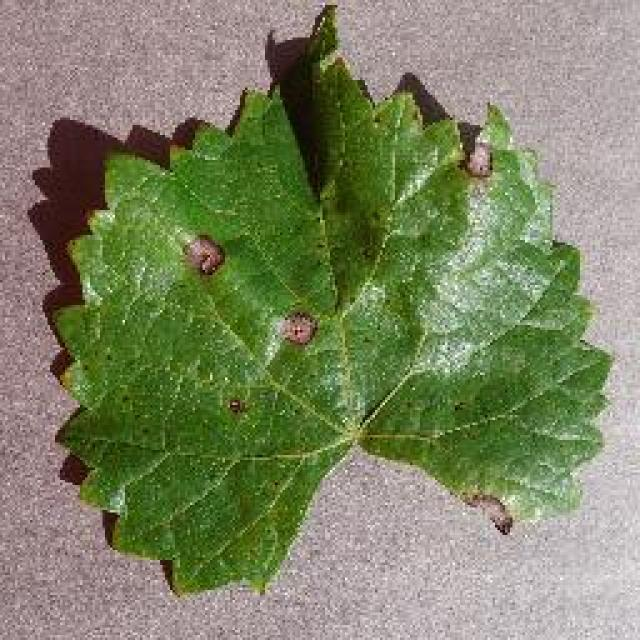Grape___Black_rot: (47, 0, 620, 602)
